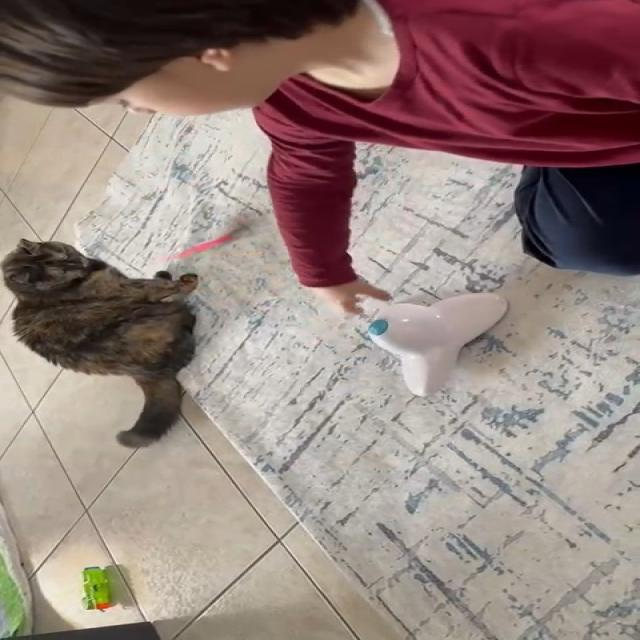authorized: (0, 238, 199, 448)
